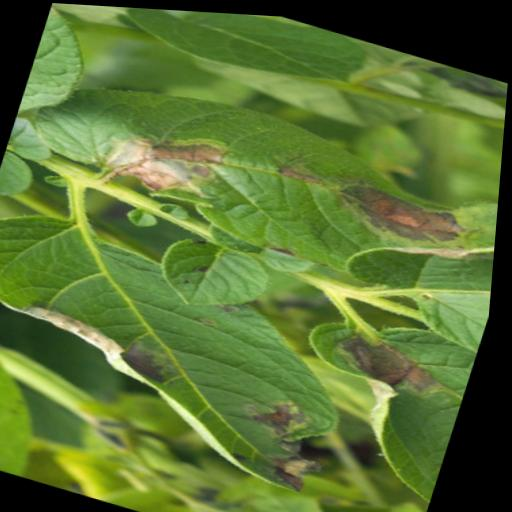Late Blight: (7, 42, 509, 312), (0, 196, 396, 506), (275, 289, 488, 502)
